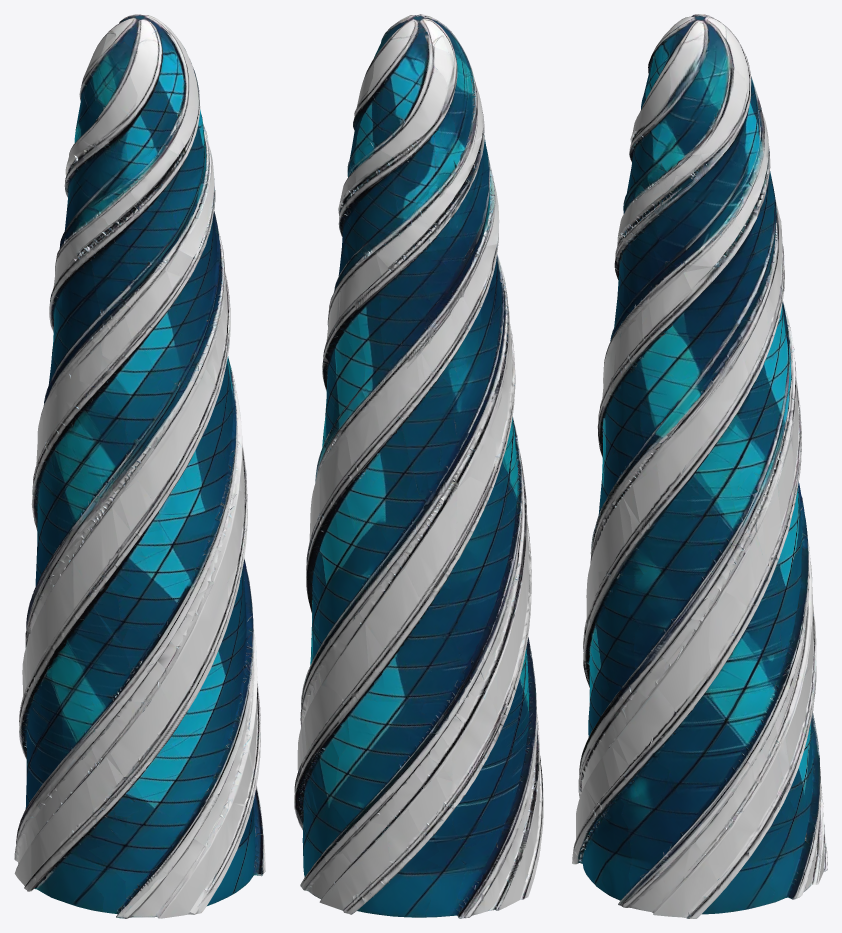
The model's file is tower3.glb.
3 views of the same model, side by side, from view 1: azimuth 30°, elevation 25°; view 2: azimuth 150°, elevation 25°; view 3: azimuth 270°, elevation 25° (orthographic).
Bounding box in the file's own units: 0.5189 × 1.9 × 0.5194.
Materials: 1 (1 with a texture image).
